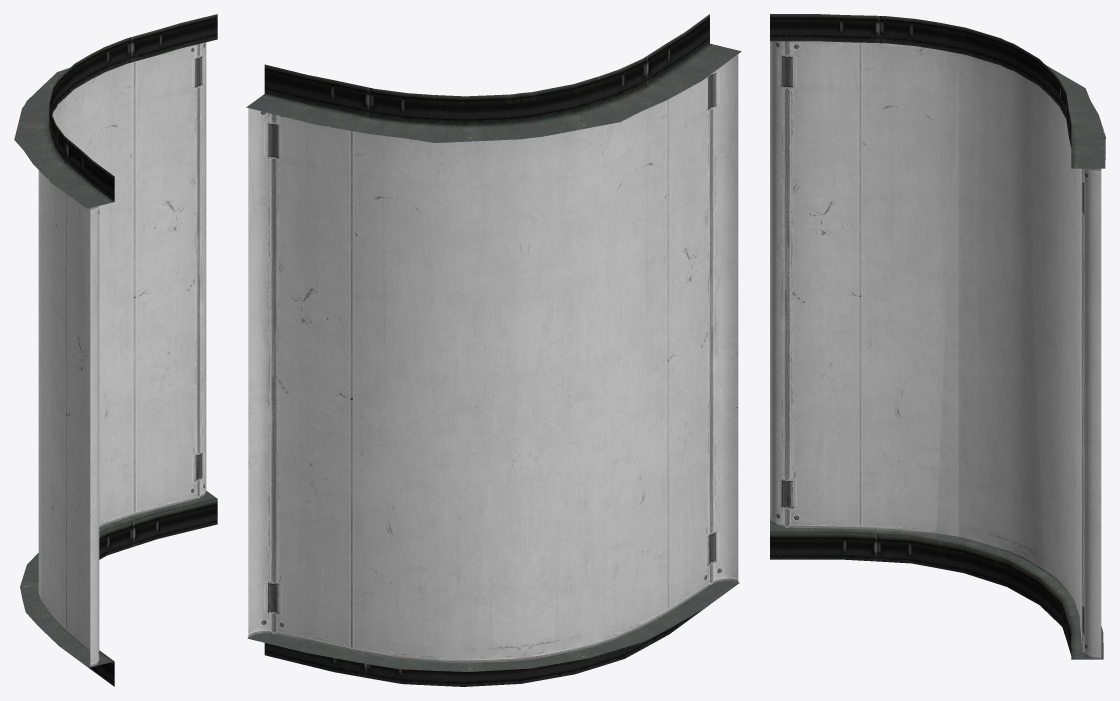
The model's file is Neon_Wall_6x4_Bend_cINb.FBX.
The picture shows the model from 3 angles, left to right: view 1: azimuth 30°, elevation 25°; view 2: azimuth 150°, elevation 25°; view 3: azimuth 270°, elevation 25°; orthographic projection. The views are drawn at different scales.
Parts seen in each view (by area): view 1: Neon_Wall_6x4_Bend_cINb; view 2: Neon_Wall_6x4_Bend_cINb; view 3: Neon_Wall_6x4_Bend_cINb.
Boxes of the visible parts, x1,y1,x2,y2 form: Neon_Wall_6x4_Bend_cINb: (14,14,217,686); Neon_Wall_6x4_Bend_cINb: (246,14,741,686); Neon_Wall_6x4_Bend_cINb: (770,14,1105,659).
Size of the model in its own units: 2.23 by 4 by 2.23.
